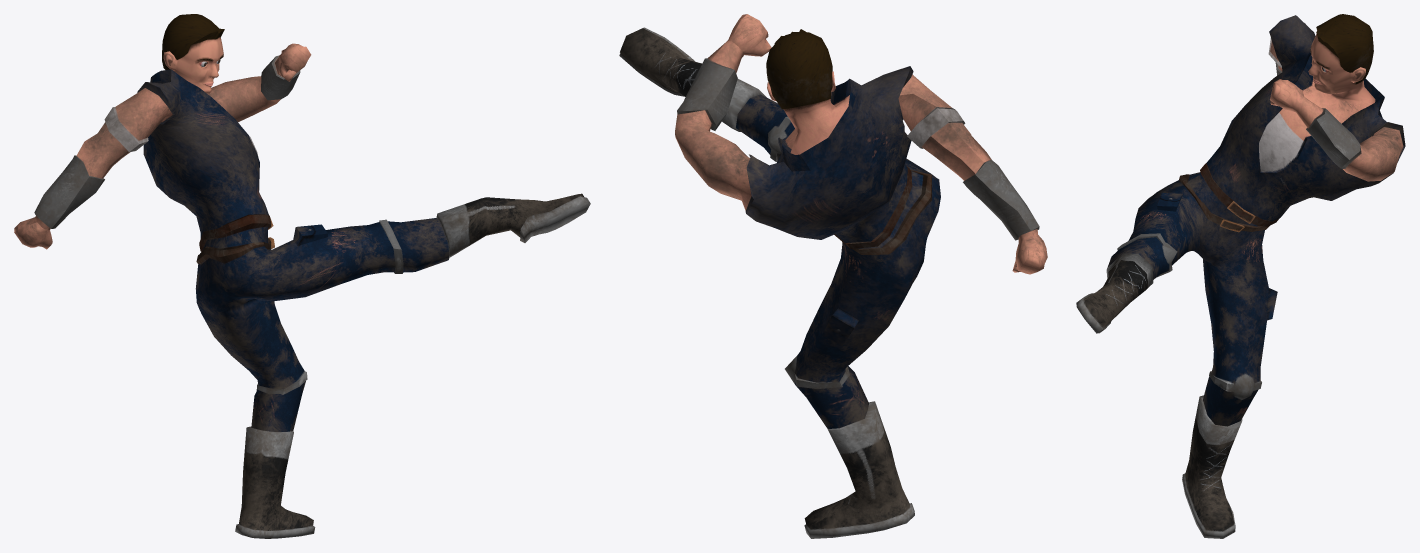
Rendered from Anim_ataque_f1_jugador.0021.obj.
3 views of the same model, side by side, from view 1: azimuth 30°, elevation 25°; view 2: azimuth 150°, elevation 25°; view 3: azimuth 270°, elevation 25° (orthographic). The views are drawn at different scales.
Parts seen in each view (by area): view 1: polySurface1; view 2: polySurface1; view 3: polySurface1.
Boxes of the visible parts, box(x1,y1,x2,y2) form: polySurface1: box(14, 14, 590, 538); polySurface1: box(619, 14, 1047, 538); polySurface1: box(1076, 14, 1405, 538).
Size of the model in its own units: 8.95 by 8.86 by 5.35.
